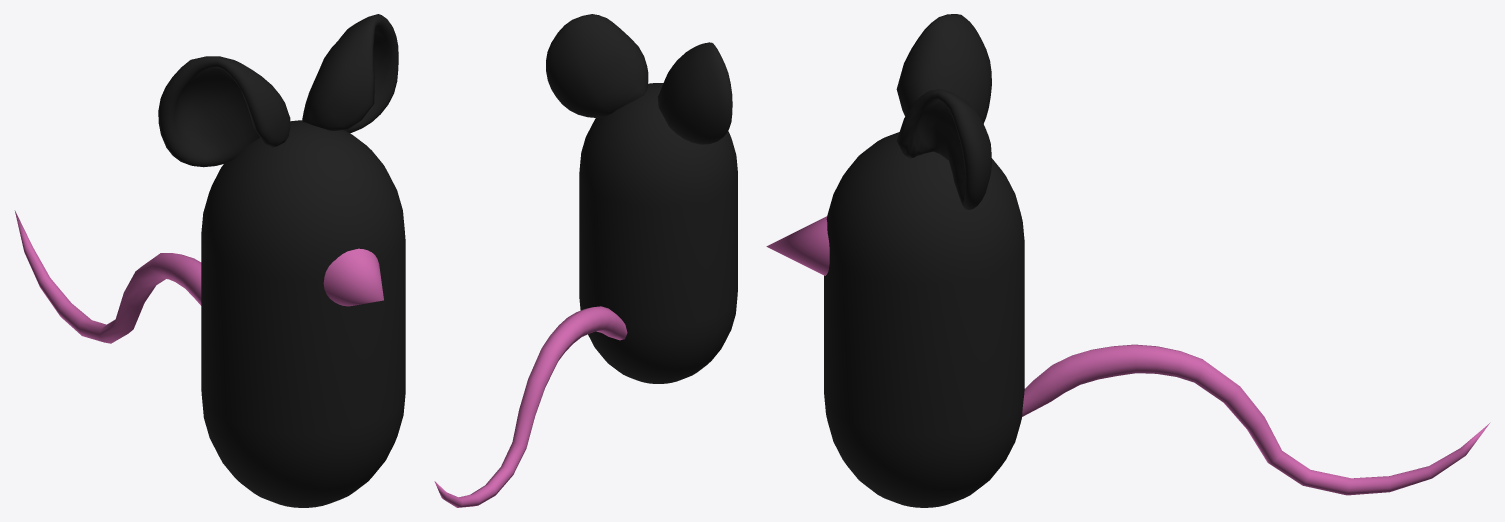
The model's file is NPC_Mouse.fbx.
The picture shows the model from 3 angles, left to right: view 1: azimuth 30°, elevation 25°; view 2: azimuth 150°, elevation 25°; view 3: azimuth 270°, elevation 25°; orthographic projection. The views are drawn at different scales.
Visible parts, largest first — view 1: Mouse; view 2: Mouse; view 3: Mouse.
Part boxes in pixels (bbox=[...]): Mouse: bbox=[14, 14, 405, 507]; Mouse: bbox=[434, 14, 737, 507]; Mouse: bbox=[766, 14, 1490, 507].
Bounding box in the file's own units: 1.34 × 2.45 × 3.61.
